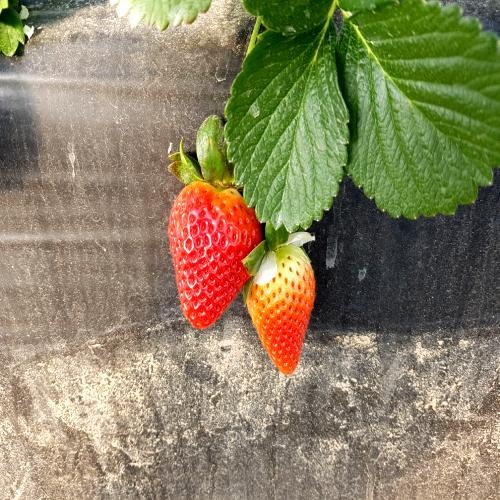partially-ripe: (245, 239, 322, 380)
ripe: (164, 174, 262, 332)
